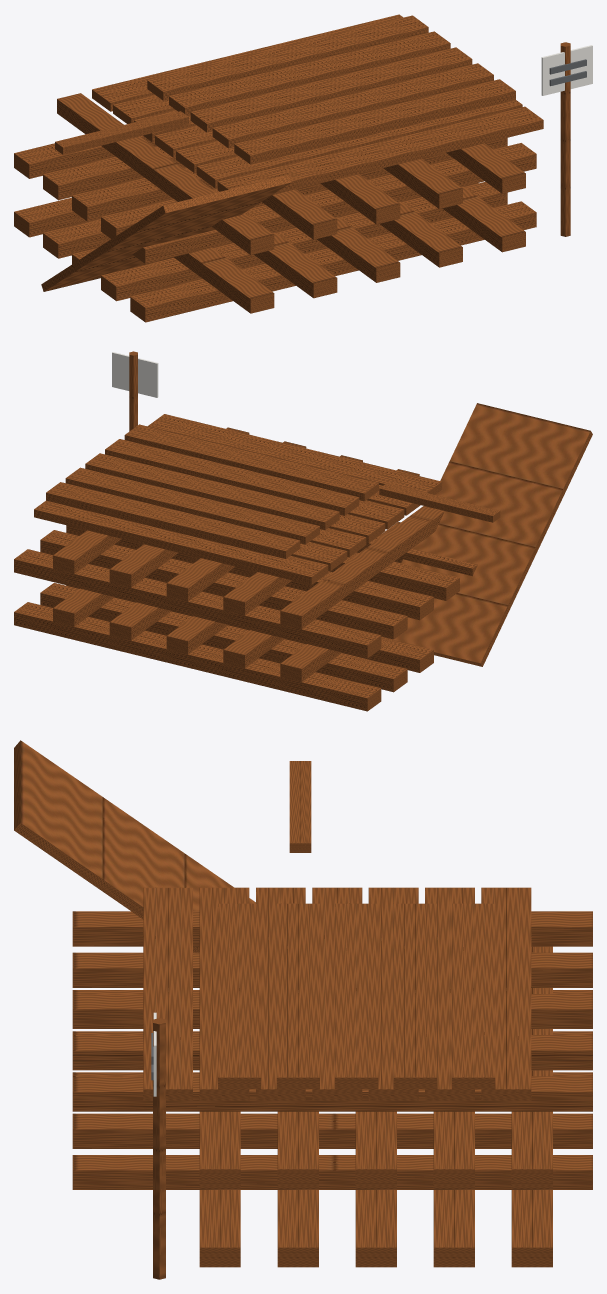
Rendered from demolition-and-site-clearance-demolition-and-site-clea-3b9f8427__35684.glb.
3 renders of one model, top to bottom at view 1: azimuth 30°, elevation 25°; view 2: azimuth 150°, elevation 25°; view 3: azimuth 270°, elevation 25°, orthographic. The views are drawn at different scales.
Visible parts, largest first — view 1: demolition-and-site-clearance-timber-waste-pile; view 2: demolition-and-site-clearance-timber-waste-pile; view 3: demolition-and-site-clearance-timber-waste-pile.
Part boxes in pixels (x1,y1,x2,y2): demolition-and-site-clearance-timber-waste-pile: (14, 14, 592, 322); demolition-and-site-clearance-timber-waste-pile: (14, 351, 592, 711); demolition-and-site-clearance-timber-waste-pile: (14, 740, 592, 1279).
Bounding box in the file's own units: 3.43 × 1.3 × 2.67.
3 materials, 1 textured.
